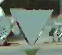Give way: (2, 2, 58, 54)
